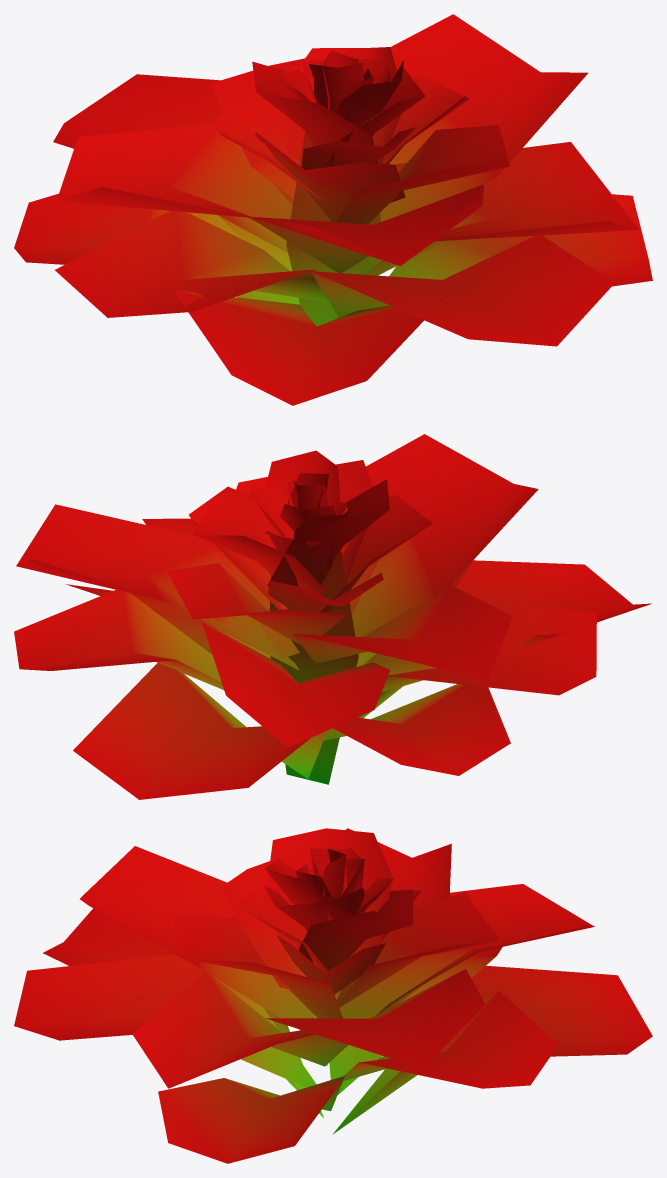
The model's file is Purple Ornamental Kale_LOD5_Var6_ugdieawja.fbx.
The picture shows the model from 3 angles, top to bottom: view 1: azimuth 30°, elevation 25°; view 2: azimuth 150°, elevation 25°; view 3: azimuth 270°, elevation 25°; orthographic projection. The views are drawn at different scales.
Parts seen in each view (by area): view 1: _a6d9_Var6_LOD5; view 2: _a6d9_Var6_LOD5; view 3: _a6d9_Var6_LOD5.
Boxes of the visible parts, left/top/right/bottom form: _a6d9_Var6_LOD5: left=14, top=14, right=652, bottom=405; _a6d9_Var6_LOD5: left=14, top=434, right=651, bottom=799; _a6d9_Var6_LOD5: left=14, top=828, right=652, bottom=1163.
Size of the model in its own units: 42.26 by 23.3 by 47.44.
